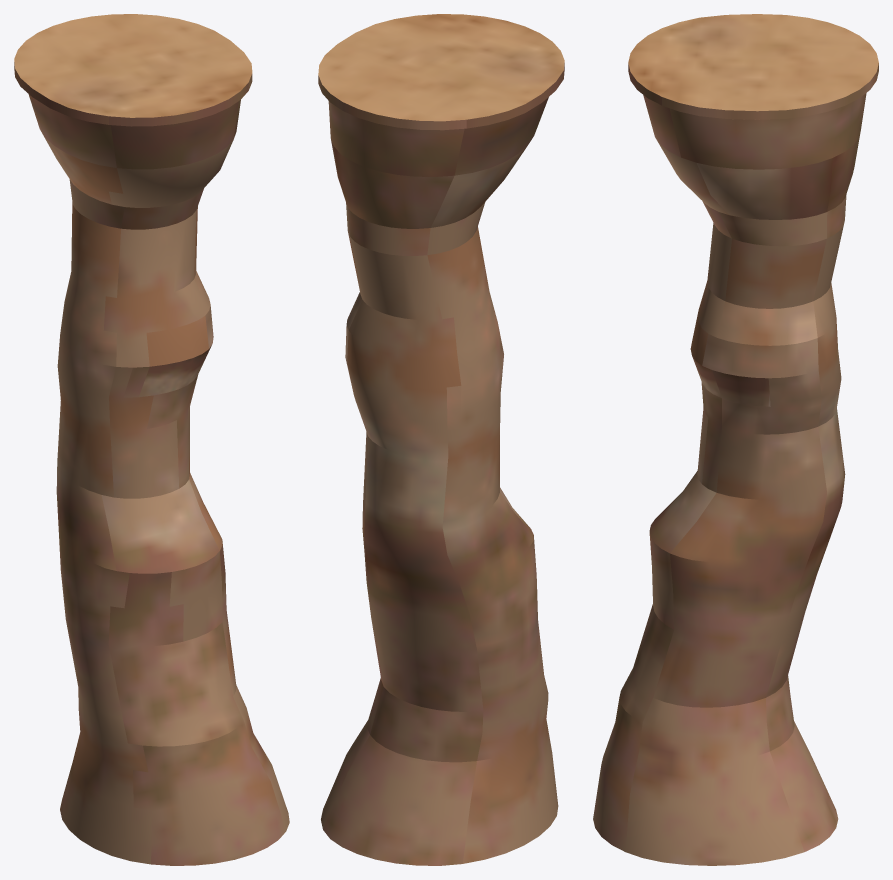
File: pillar-texture.glb
3 renders of one model, left to right at view 1: azimuth 30°, elevation 25°; view 2: azimuth 150°, elevation 25°; view 3: azimuth 270°, elevation 25°, orthographic. The views are drawn at different scales.
Visible parts, largest first — view 1: Cylinder; view 2: Cylinder; view 3: Cylinder.
Part boxes in pixels (bbox=[...]): Cylinder: bbox=[14, 14, 289, 865]; Cylinder: bbox=[318, 14, 564, 865]; Cylinder: bbox=[593, 14, 878, 865].
Size of the model in its own units: 5.14 by 16.82 by 5.85.
Materials: 1 (1 with a texture image).
